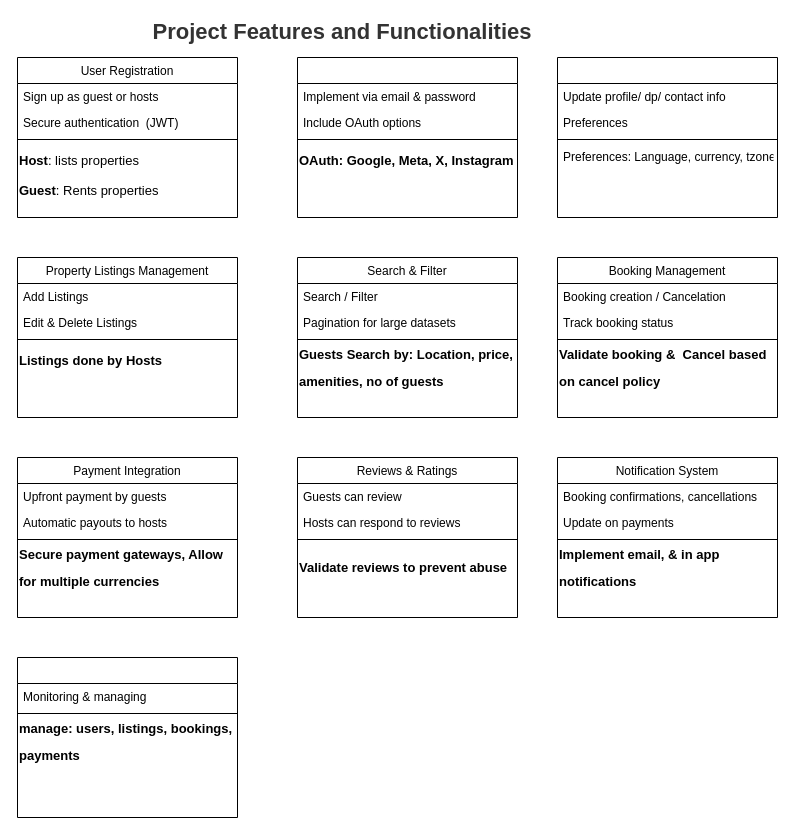
This 795x835 diagram has some shape labels left out. Here are the shapes that lost their labels. From the top down, the box of each, then its label:
(296, 56, 518, 218): User Login
(556, 56, 778, 218): Profile Management
(16, 656, 238, 818): Admin Dashboard
